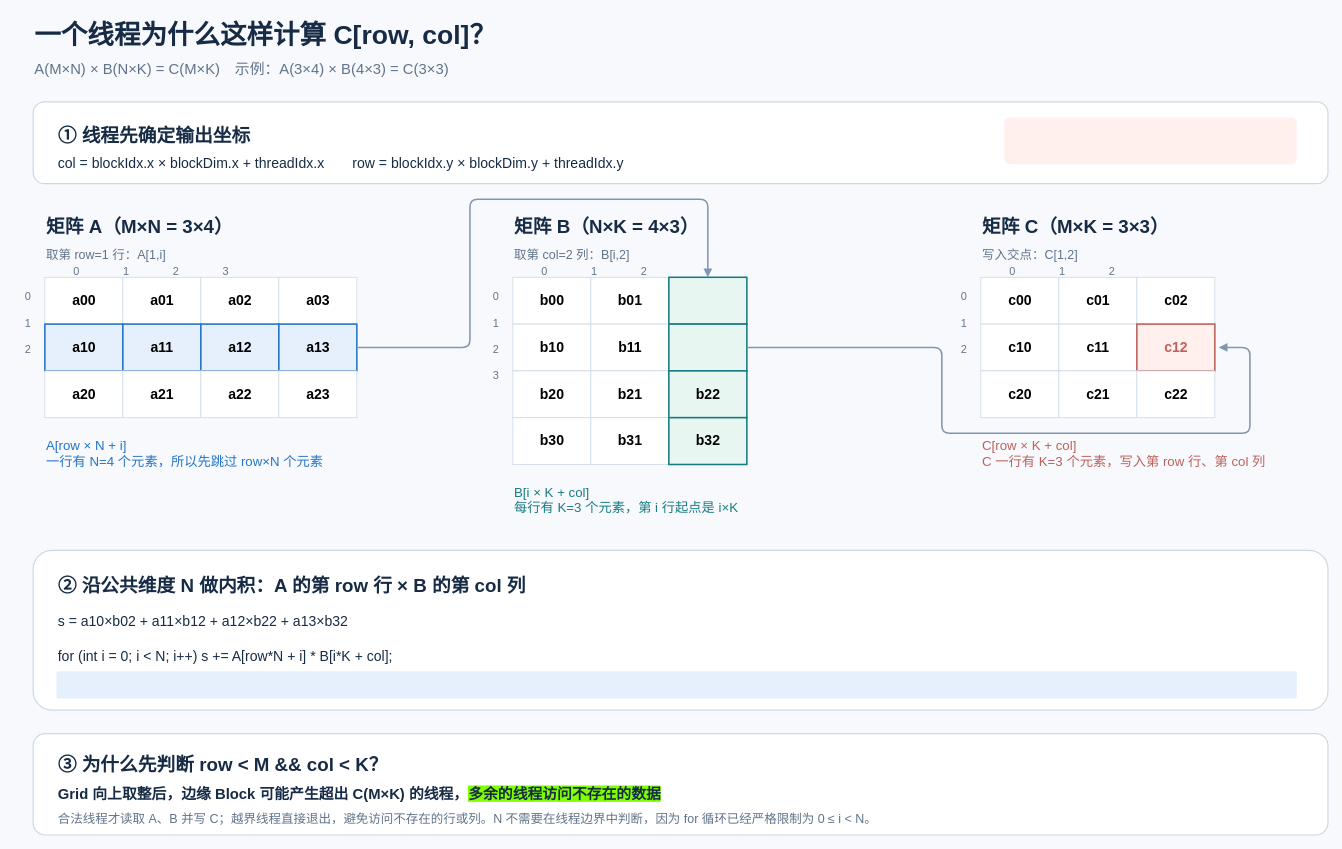
This 1342x849 diagram has some shape labels left out. Here are the shapes that lost their labels. From the top down, the centre of each, then its label:
point (1150, 140): 本例选中线程：row = 1，col = 2 它只负责计算并写回 C[1,2]
point (707, 300): b02
point (707, 347): b12
point (676, 684): i 同时选择 A 第 row 行的第 i 个元素，以及 B 第 col 列的第 i 个元素；循环 N 次后得到一个标量，正好写入 C[row,col]
